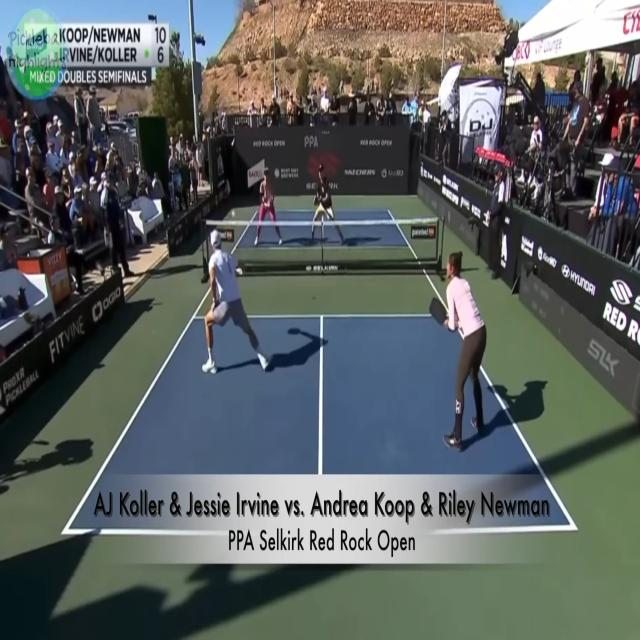ball: (230, 208, 238, 220)
